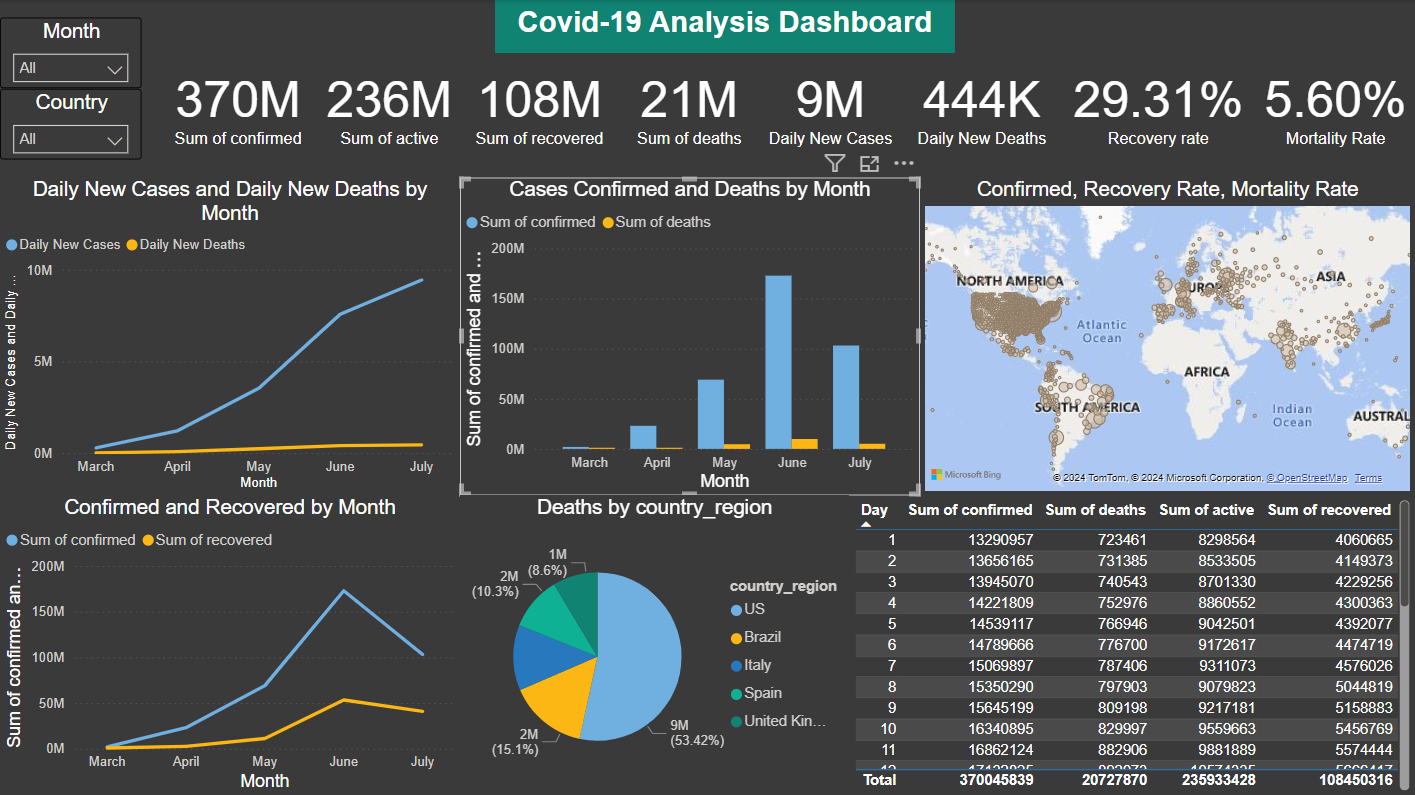

The page's visual inventory and layout, read from the dashboard file:
{"tool":"powerbi","page":{"name":"Page 1","canvas":[1280,720],"ordinal":0},"visuals":[{"type":"card","fields":{"Values":["Sum(Covid Data set final bi.active)"]},"box":[288,48,128,96],"z":0},{"type":"card","fields":{"Values":["Sum(Covid Data set final bi.confirmed)"]},"box":[144,48,144,96],"z":1000},{"type":"card","fields":{"Values":["Sum(Covid Data set final bi.deaths)"]},"box":[560,48,128,96],"z":2000},{"type":"card","fields":{"Values":["Sum(Covid Data set final bi.recovered)"]},"box":[416,48,144,96],"z":3000},{"type":"card","fields":{"Values":["Covid Data set final bi.recovery rate"]},"box":[960,48,176,96],"z":4000},{"type":"card","fields":{"Values":["Covid Data set final bi.Mortality Rate"]},"box":[1136,48,144,96],"z":5000},{"type":"slicer","title":"Country","fields":{"Values":["Covid Data set final bi.country_region"]},"box":[0,80,128,64],"z":6000},{"type":"slicer","title":"Month","fields":{"Values":["Covid Data set final bi.date.Variation.Date Hierarchy.Month"]},"box":[0,16,128,64],"z":7000},{"type":"card","fields":{"Values":["Covid Data set final bi.Daily New Cases"]},"box":[688,48,128,96],"z":8000},{"type":"card","fields":{"Values":["Covid Data set final bi.Daily New Deaths"]},"box":[816,48,144,96],"z":9000},{"type":"tableEx","fields":{"Values":["Covid Data set final bi.date.Variation.Date Hierarchy.Day","Sum(Covid Data set final bi.confirmed)","Sum(Covid Data set final bi.deaths)","Sum(Covid Data set final bi.active)","Sum(Covid Data set final bi.recovered)"]},"box":[768,448,512,272],"z":10000},{"type":"map","title":"Confirmed, Recovery Rate, Mortality Rate","fields":{"Size":["Sum(Covid Data set final bi.confirmed)"],"Y":["Covid Data set final bi.latitude"],"X":["Covid Data set final bi.longitude"]},"box":[832,160,448,288],"z":11000},{"type":"lineChart","fields":{"Category":["Covid Data set final bi.date.Variation.Date Hierarchy.Month"],"Y":["Covid Data set final bi.Daily New Cases","Covid Data set final bi.Daily New Deaths"]},"box":[0,160,416,288],"z":12000},{"type":"lineChart","title":"Confirmed and Recovered by Month","fields":{"Y":["Sum(Covid Data set final bi.confirmed)","Sum(Covid Data set final bi.recovered)"],"Category":["Covid Data set final bi.date.Variation.Date Hierarchy.Month"]},"box":[0,448,416,272],"z":13000},{"type":"textbox","box":[448,0,416,48],"z":14000},{"type":"clusteredColumnChart","title":"Cases Confirmed and  Deaths by Month","fields":{"Category":["Covid Data set final bi.Month"],"Y":["Sum(Covid Data set final bi.confirmed)","Sum(Covid Data set final bi.deaths)"]},"box":[416,160,416,288],"z":15000},{"type":"pieChart","title":"Deaths by country_region","fields":{"Category":["Covid Data set final bi.country_region"],"Y":["Sum(Covid Data set final bi.deaths)"]},"box":[416,448,352,272],"z":16000}]}

Visuals, with their boxes in screenshot pixels (x1, y1, x2, y2), scaled from the page's 1280x720 canvas onto the 1415x795 screenshot:
card - Sum(Covid Data set final bi.active): locate(318, 53, 460, 159)
card - Sum(Covid Data set final bi.confirmed): locate(159, 53, 318, 159)
card - Sum(Covid Data set final bi.deaths): locate(619, 53, 761, 159)
card - Sum(Covid Data set final bi.recovered): locate(460, 53, 619, 159)
card - Covid Data set final bi.recovery rate: locate(1061, 53, 1256, 159)
card - Covid Data set final bi.Mortality Rate: locate(1256, 53, 1414, 159)
"Country" slicer: locate(0, 88, 142, 159)
"Month" slicer: locate(0, 18, 142, 88)
card - Covid Data set final bi.Daily New Cases: locate(761, 53, 902, 159)
card - Covid Data set final bi.Daily New Deaths: locate(902, 53, 1061, 159)
tableEx - Covid Data set final bi.date.Variation.Date Hierarchy.Day x Sum(Covid Data set final bi.confirmed): locate(849, 495, 1414, 794)
"Confirmed, Recovery Rate, Mortality Rate" map: locate(920, 177, 1414, 495)
lineChart - Covid Data set final bi.date.Variation.Date Hierarchy.Month x Covid Data set final bi.Daily New Cases: locate(0, 177, 460, 495)
"Confirmed and Recovered by Month" lineChart: locate(0, 495, 460, 794)
textbox: locate(495, 0, 955, 53)
"Cases Confirmed and  Deaths by Month" clusteredColumnChart: locate(460, 177, 920, 495)
"Deaths by country_region" pieChart: locate(460, 495, 849, 794)
